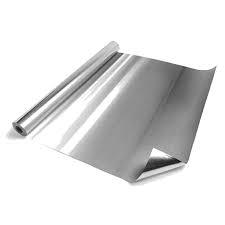metal: (10, 41, 217, 183)
